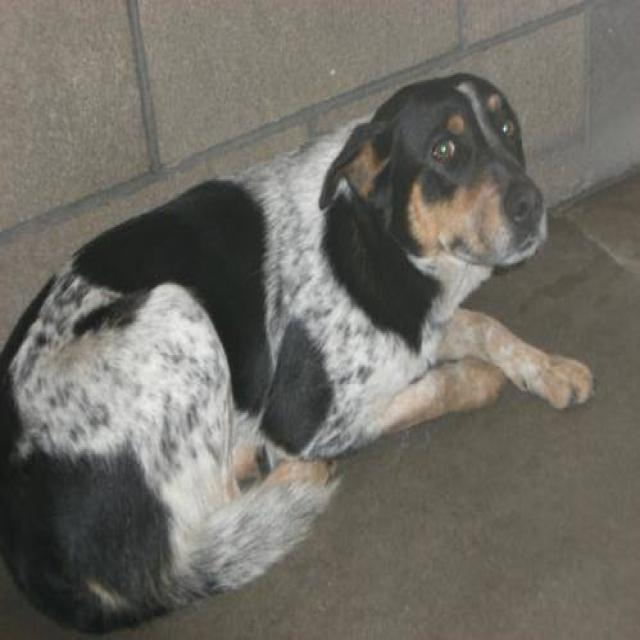dog: (0, 70, 595, 635)
